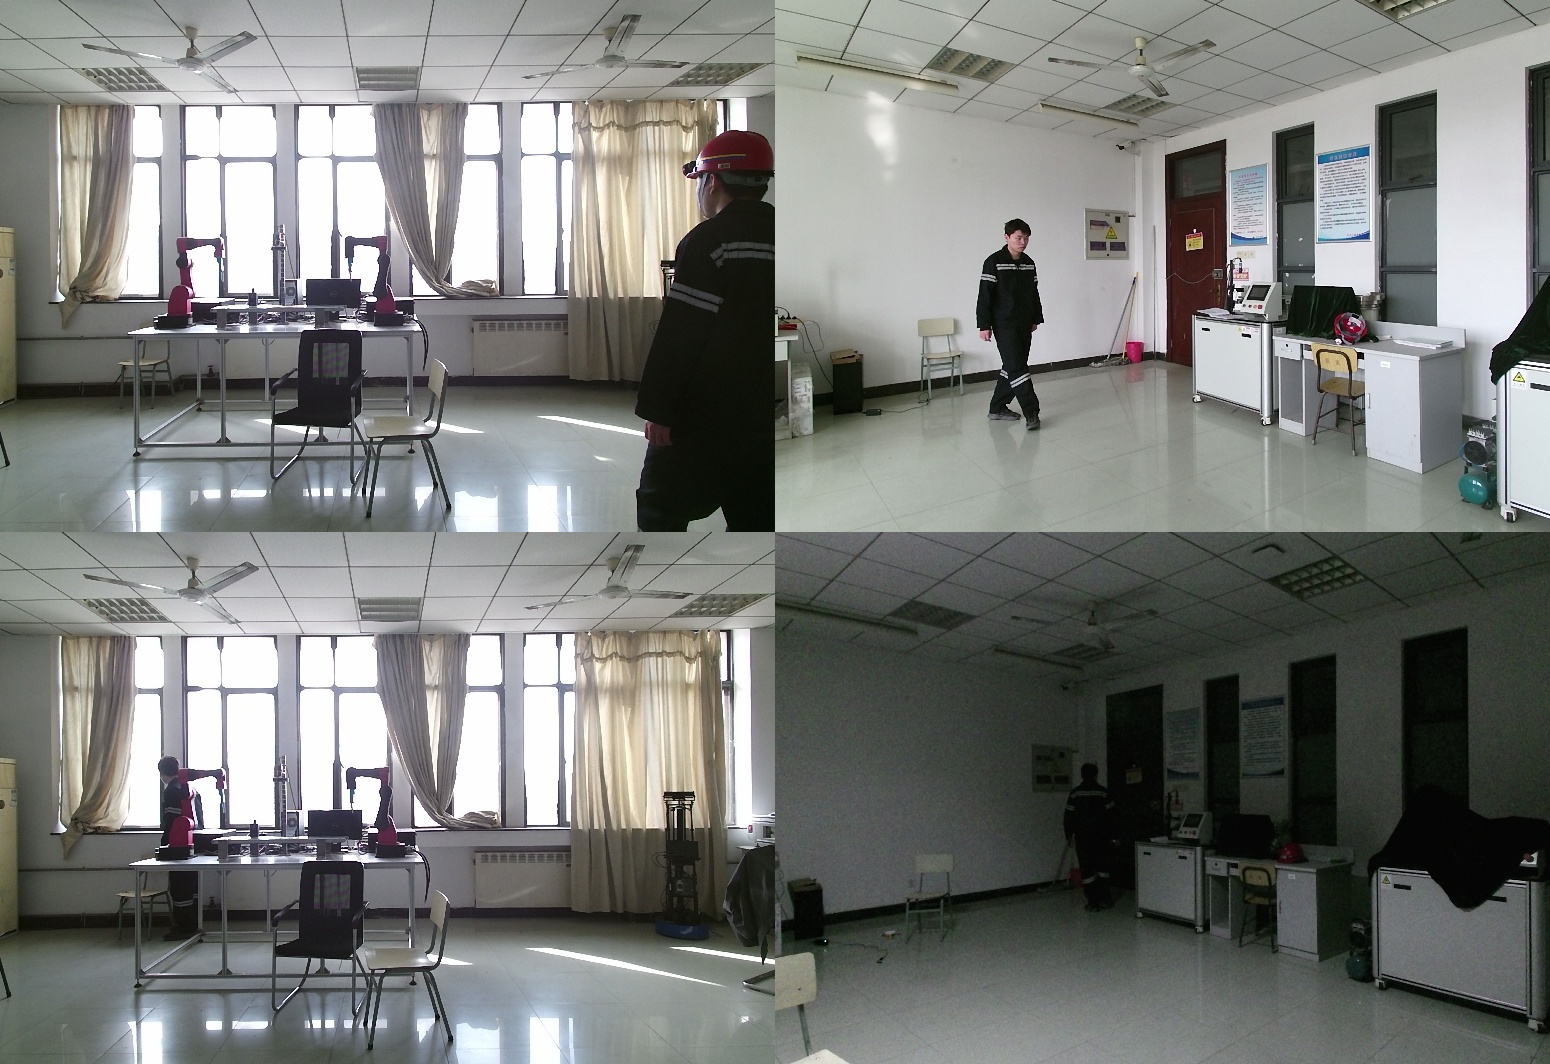person: (636, 131, 775, 532), (968, 218, 1042, 431), (155, 754, 208, 946), (1062, 765, 1121, 919)
